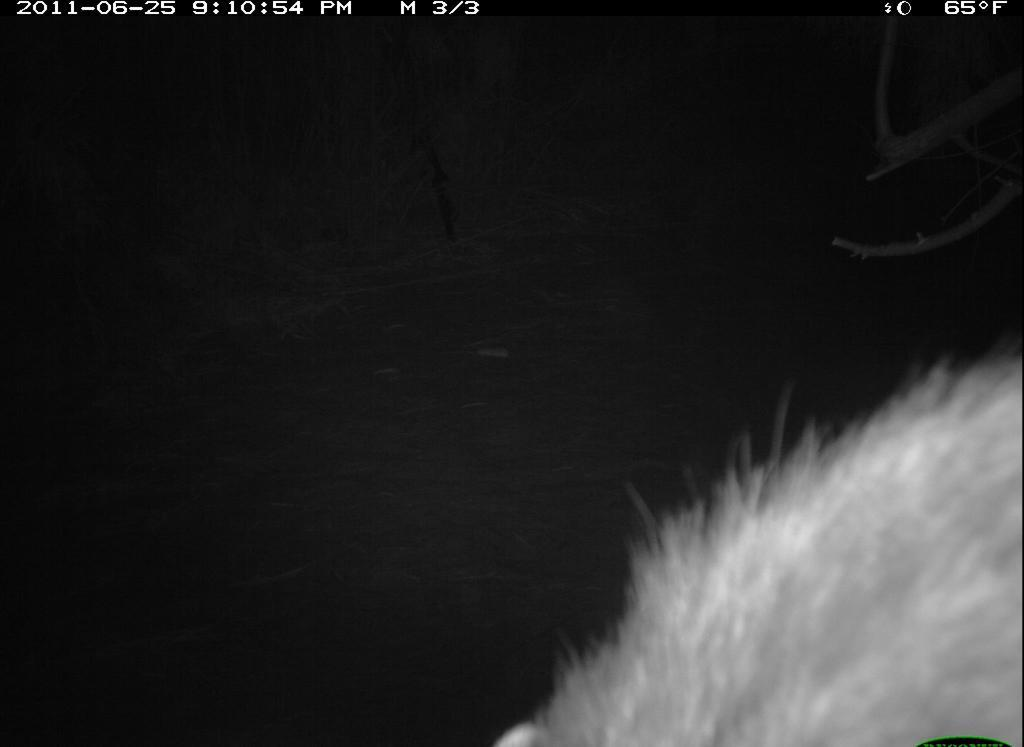raccoon: (488, 321, 1024, 747)
